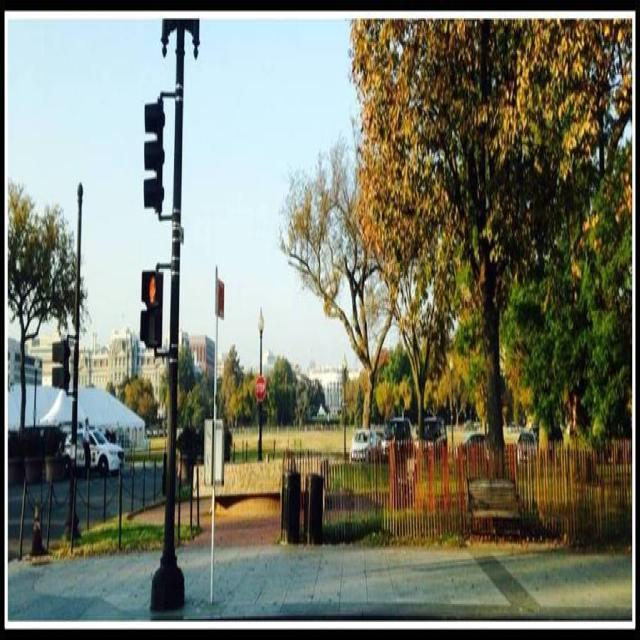off traffic light: (140, 102, 164, 214)
traffic light: (140, 271, 163, 349)
